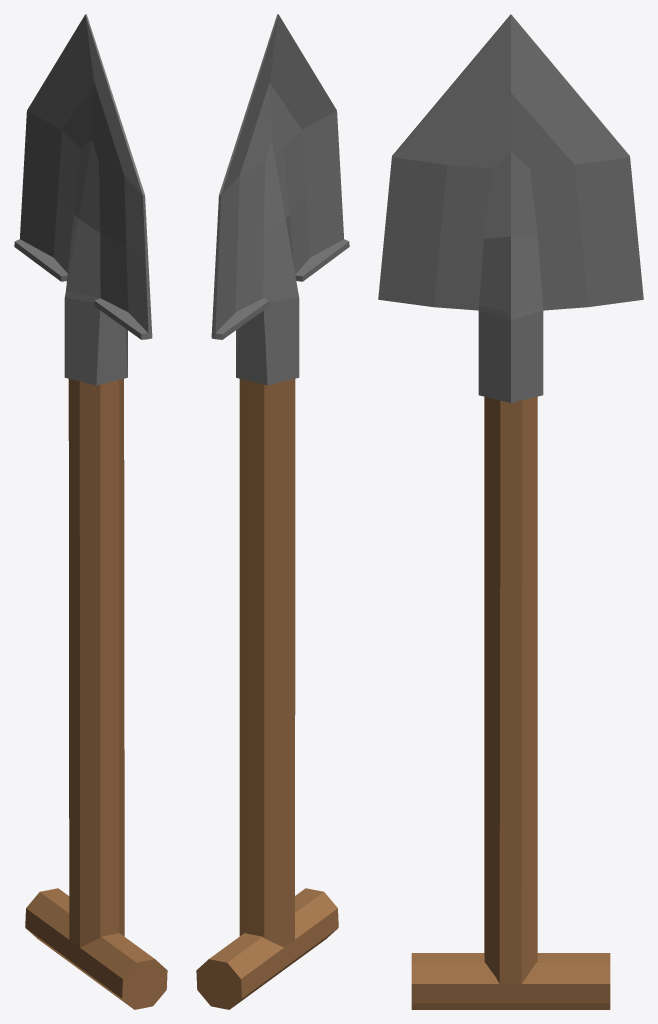
Rendered from shovel.fbx.
The picture shows the model from 3 angles, left to right: view 1: azimuth 30°, elevation 25°; view 2: azimuth 150°, elevation 25°; view 3: azimuth 270°, elevation 25°; orthographic projection. The views are drawn at different scales.
Visible parts, largest first — view 1: Shovel; view 2: Shovel; view 3: Shovel.
Part boxes in pixels (left/top/right/bottom): Shovel: left=14, top=14, right=167, bottom=1009; Shovel: left=196, top=14, right=349, bottom=1009; Shovel: left=378, top=14, right=643, bottom=1009.
Bounding box in the file's own units: 6.52 × 94.9 × 23.13.
